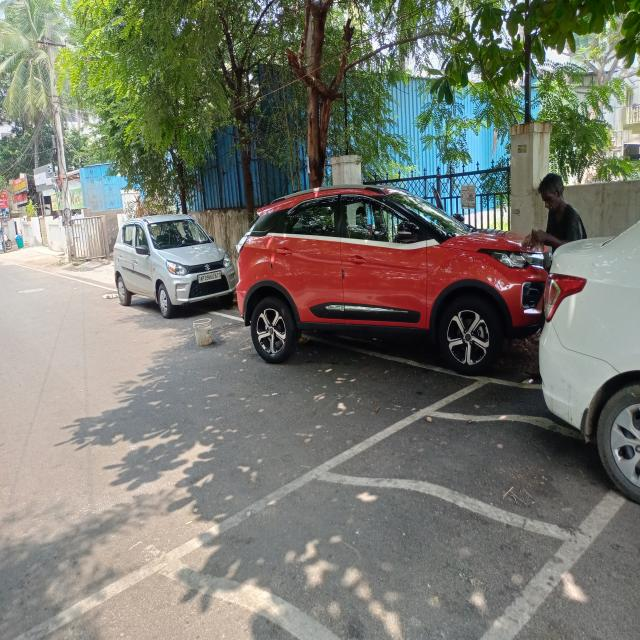car: (229, 172, 540, 386), (110, 210, 235, 317)
